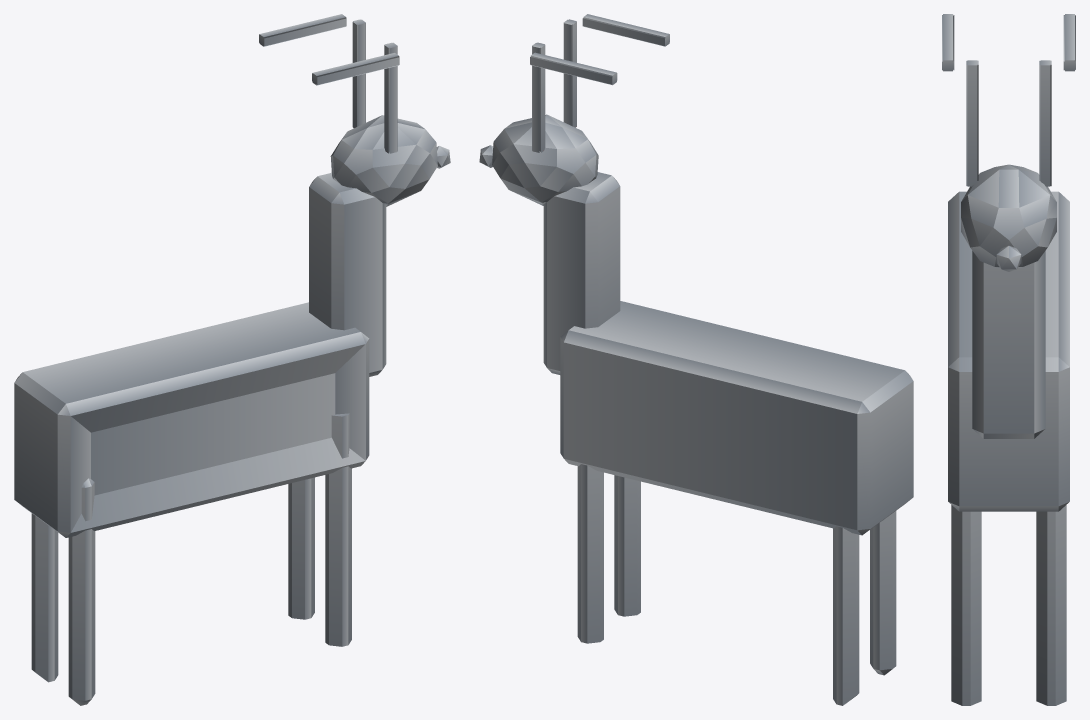
File: dt_light_up_reindeer.fbx
3 renders of one model, left to right at view 1: azimuth 30°, elevation 25°; view 2: azimuth 150°, elevation 25°; view 3: azimuth 270°, elevation 25°, orthographic. The views are drawn at different scales.
Visible parts, largest first — view 1: dt_light_up_reindeer; view 2: dt_light_up_reindeer; view 3: dt_light_up_reindeer.
Boxes of the visible parts, x1,y1,x2,y2 form: dt_light_up_reindeer: (14,14,450,705); dt_light_up_reindeer: (479,14,913,705); dt_light_up_reindeer: (942,14,1075,705).
Size of the model in its own units: 522 by 700 by 127.
